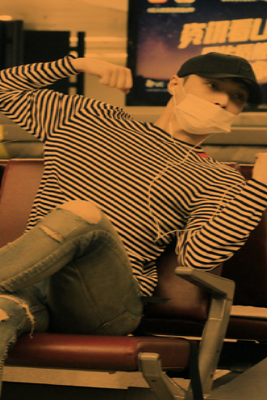mask_weared_incorrect: (177, 77, 247, 133)
